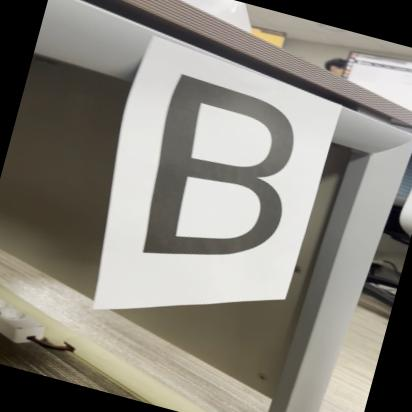seat: (115, 56, 316, 294)
